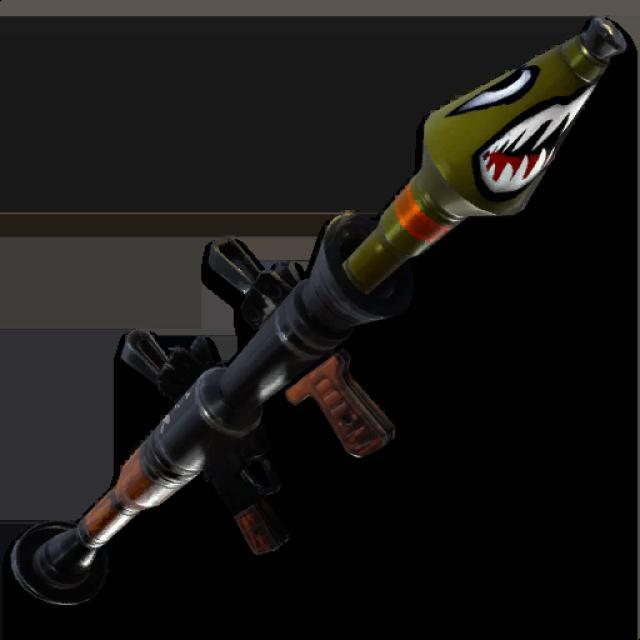rocket launcher: (1, 11, 635, 622)
